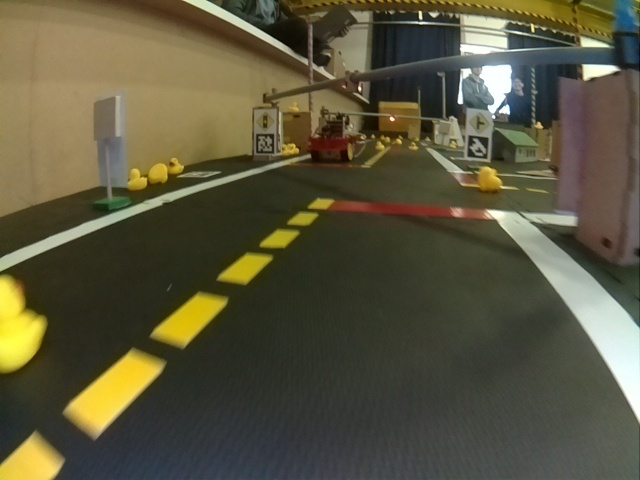Duckie: (3, 276, 48, 373), (478, 167, 499, 191), (128, 168, 146, 191), (151, 166, 167, 184), (171, 159, 183, 174)
Duckiebot: (307, 114, 357, 162)
Intersection sign: (469, 113, 486, 134)
QR code: (468, 137, 488, 159), (256, 133, 274, 154)
Signal sign: (256, 111, 275, 131)
